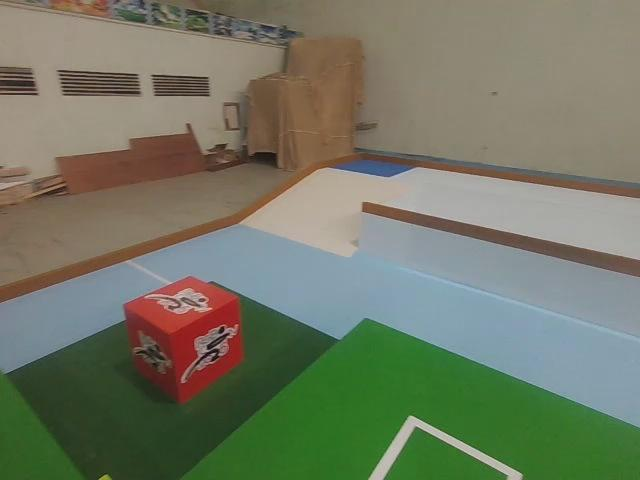R1: (119, 272, 248, 407)
